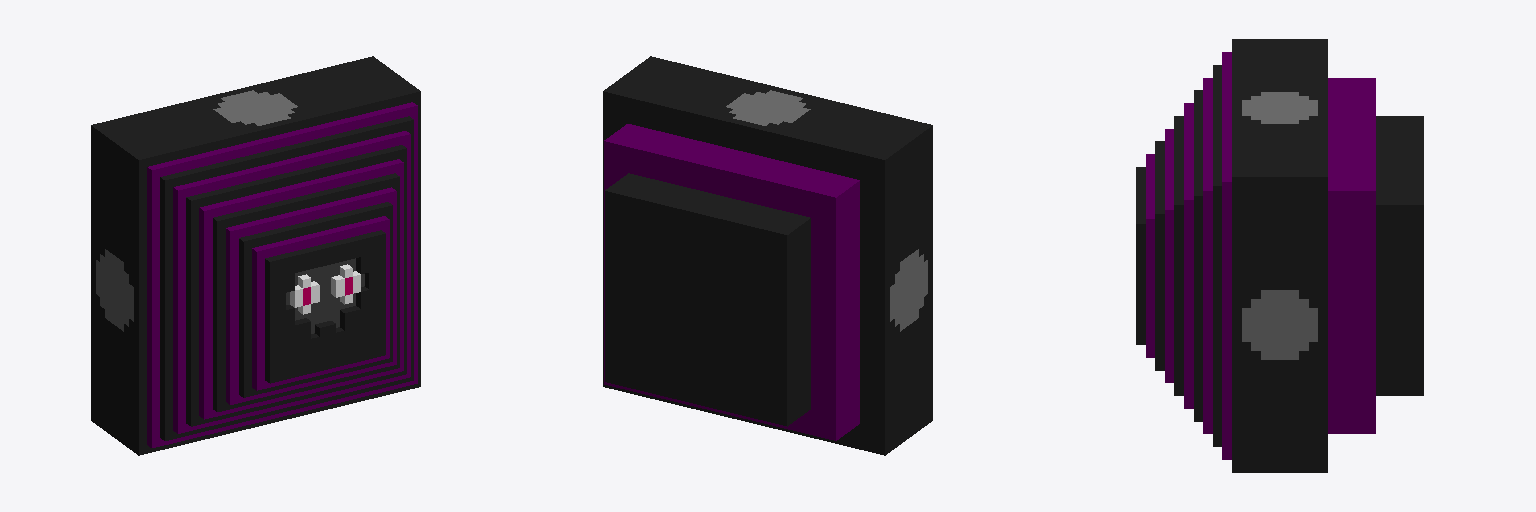
3 views of the same model, side by side, from view 1: azimuth 30°, elevation 25°; view 2: azimuth 150°, elevation 25°; view 3: azimuth 270°, elevation 25° (orthographic).
Size of the model in its own units: 34 by 34 by 30.
1 materials, 1 textured.